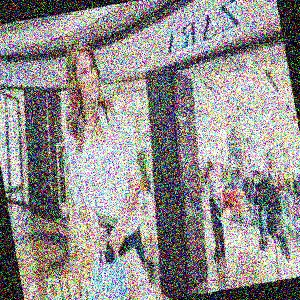zara: (59, 29, 300, 32), (25, 32, 28, 96)
